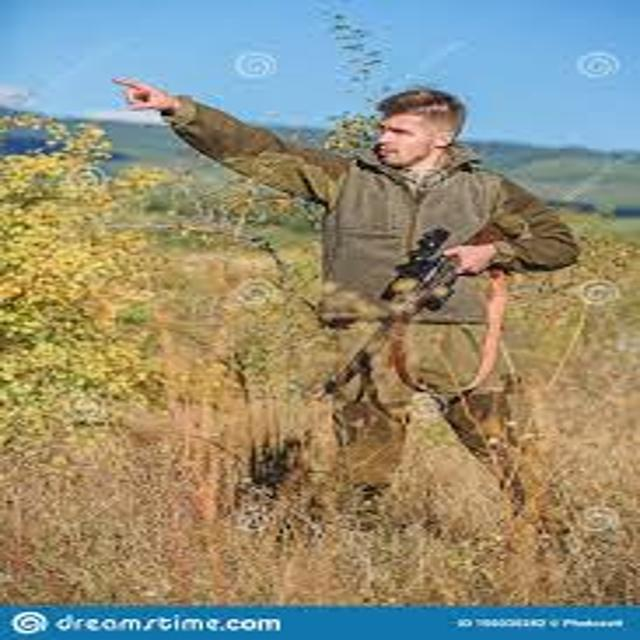gun: (287, 195, 574, 428)
poacher: (97, 54, 612, 547)
